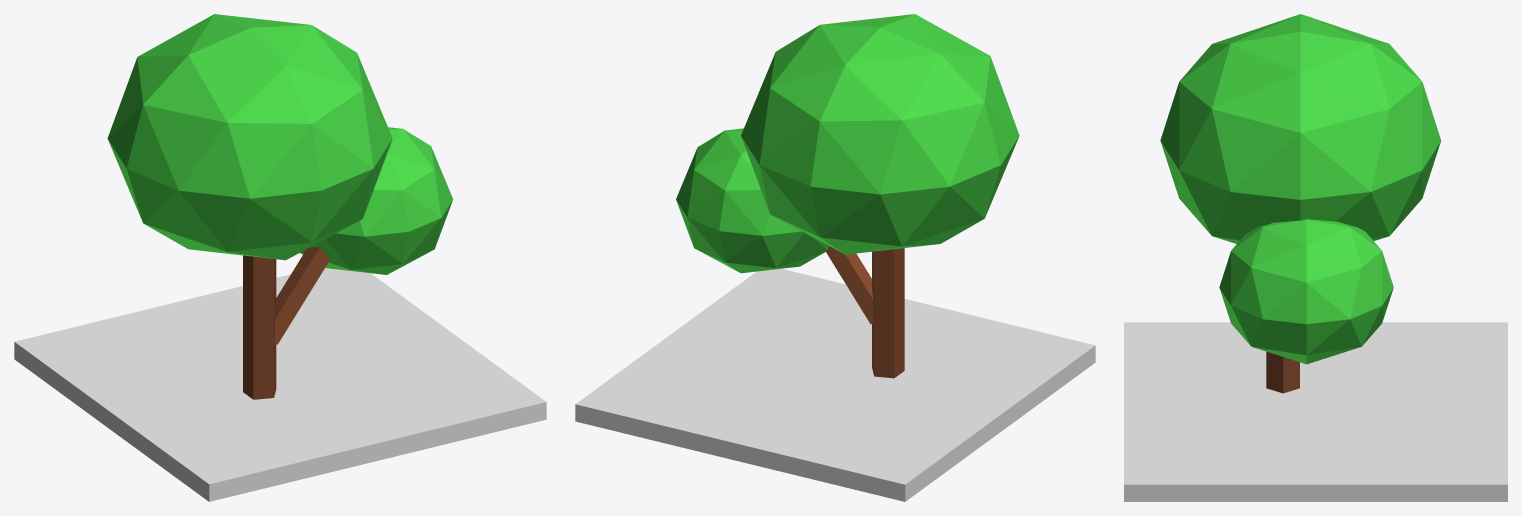
The model's file is Wood_4 04.FBX.
3 views of the same model, side by side, from view 1: azimuth 30°, elevation 25°; view 2: azimuth 150°, elevation 25°; view 3: azimuth 270°, elevation 25° (orthographic). The views are drawn at different scales.
Parts seen in each view (by area): view 1: Cylinder001, Box005; view 2: Cylinder001, Box005; view 3: Cylinder001, Box005.
Part boxes in pixels (x1,y1,x2,y2): Cylinder001: (107,14,453,399); Box005: (14,268,546,501); Cylinder001: (676,14,1019,378); Box005: (575,268,1095,501); Cylinder001: (1160,14,1441,393); Box005: (1124,322,1507,501).
Size of the model in its own units: 1 by 1.07 by 1.
Materials: 2 (2 with a texture image).
